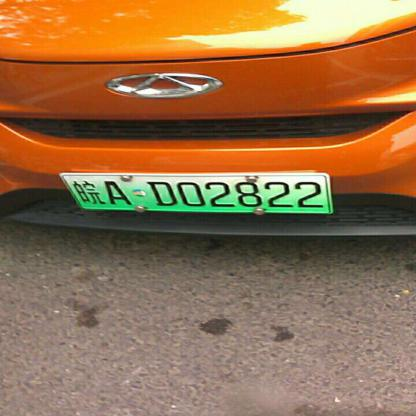lp: (64, 175, 330, 211)
